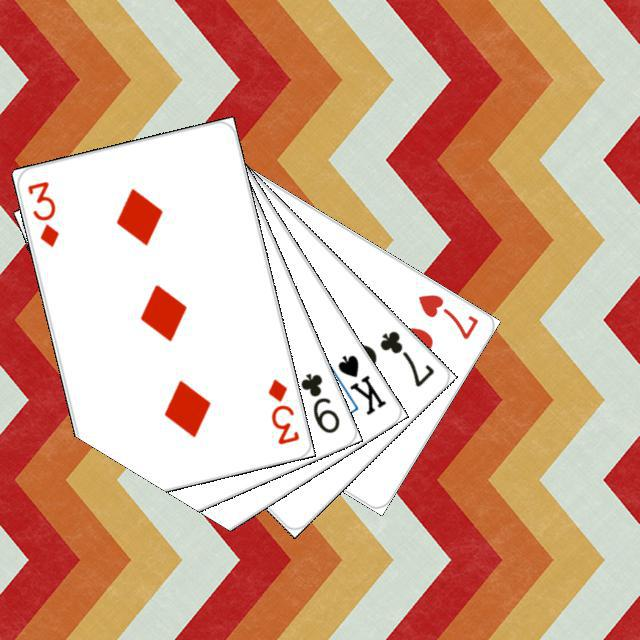3d: (22, 176, 61, 248), (263, 374, 301, 446)
7c: (374, 325, 437, 389)
7h: (413, 289, 481, 342)
9c: (295, 368, 342, 435)
Ks: (332, 350, 388, 417)
